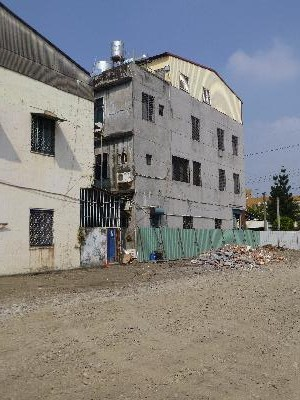water_tower: (110, 39, 126, 67)
